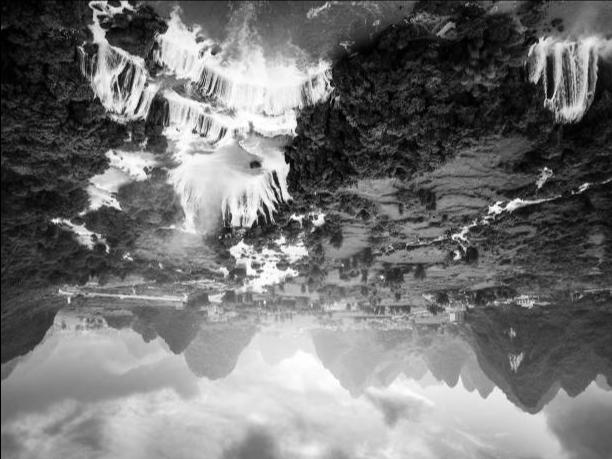Non_Gorille: (82, 0, 546, 434)
